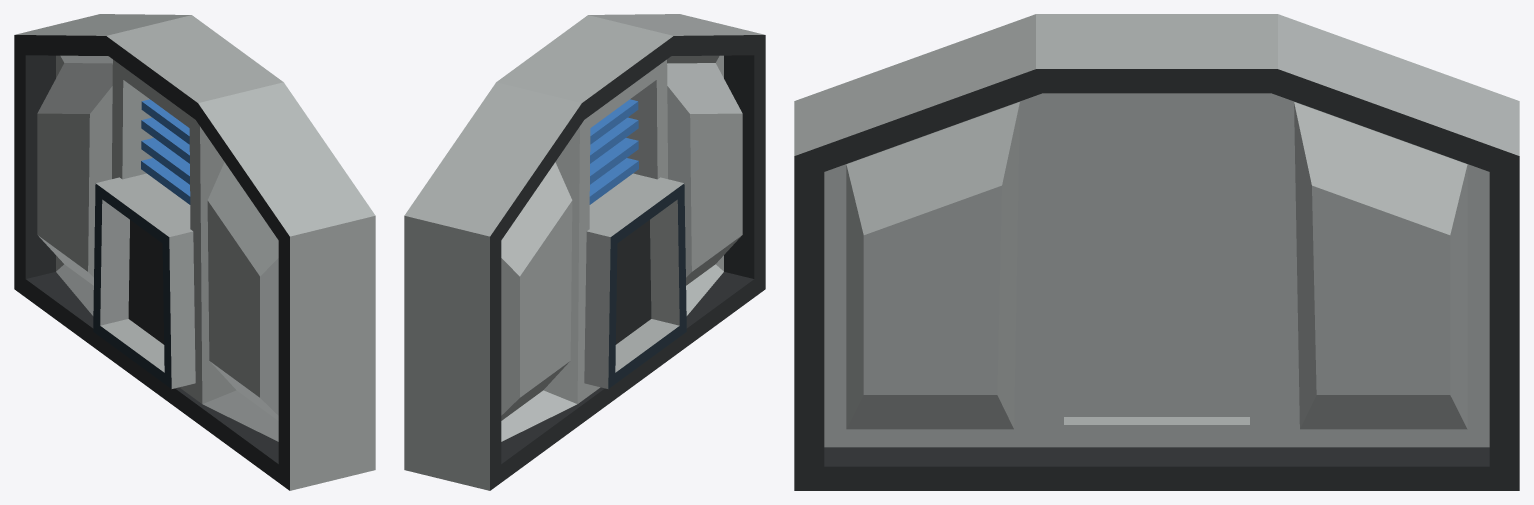
The model's file is Gate.fbx.
3 renders of one model, left to right at view 1: azimuth 30°, elevation 25°; view 2: azimuth 150°, elevation 25°; view 3: azimuth 270°, elevation 25°, orthographic. The views are drawn at different scales.
Parts seen in each view (by area): view 1: Cube.163; view 2: Cube.163; view 3: Cube.163.
Boxes of the visible parts, x1,y1,x2,y2 form: Cube.163: (14,14,375,490); Cube.163: (404,14,765,490); Cube.163: (794,14,1519,490).
Size of the model in its own units: 136 by 384 by 599.
